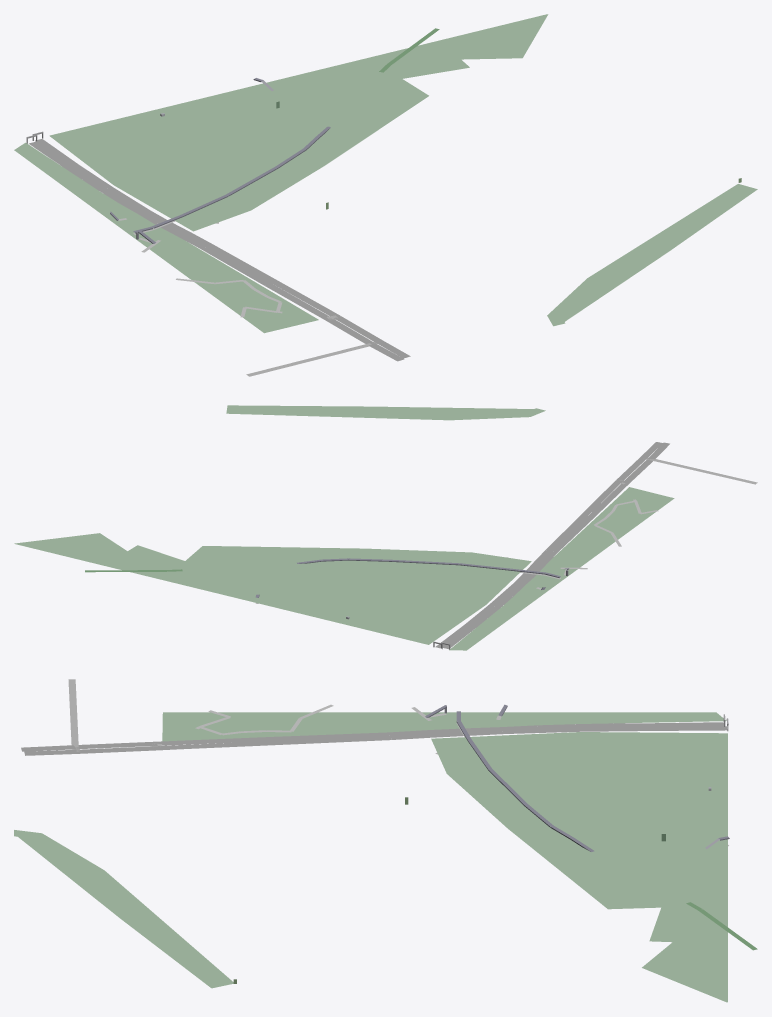
3 views of the same model, one above another, from view 1: azimuth 30°, elevation 25°; view 2: azimuth 150°, elevation 25°; view 3: azimuth 270°, elevation 25° (orthographic). The views are drawn at different scales.
Bounding box in the file's own units: 534 × 7.32 × 521.
